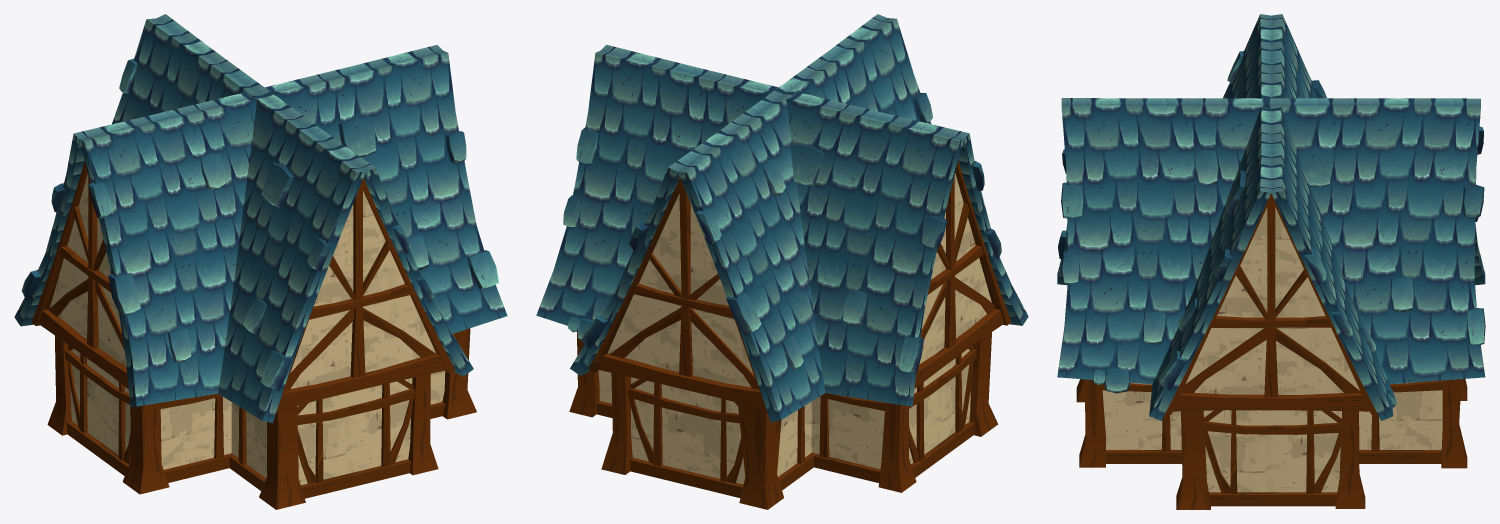
The model's file is SM_BLD_body_v07_02.fbx.
3 views of the same model, side by side, from view 1: azimuth 30°, elevation 25°; view 2: azimuth 150°, elevation 25°; view 3: azimuth 270°, elevation 25° (orthographic).
Visible parts, largest first — view 1: SM_BLD_body_v07_02; view 2: SM_BLD_body_v07_02; view 3: SM_BLD_body_v07_02.
Boxes of the visible parts, x1,y1,x2,y2 form: SM_BLD_body_v07_02: (14, 14, 507, 509); SM_BLD_body_v07_02: (536, 14, 1028, 509); SM_BLD_body_v07_02: (1057, 14, 1485, 509).
Size of the model in its own units: 1288 by 1078 by 1288.
